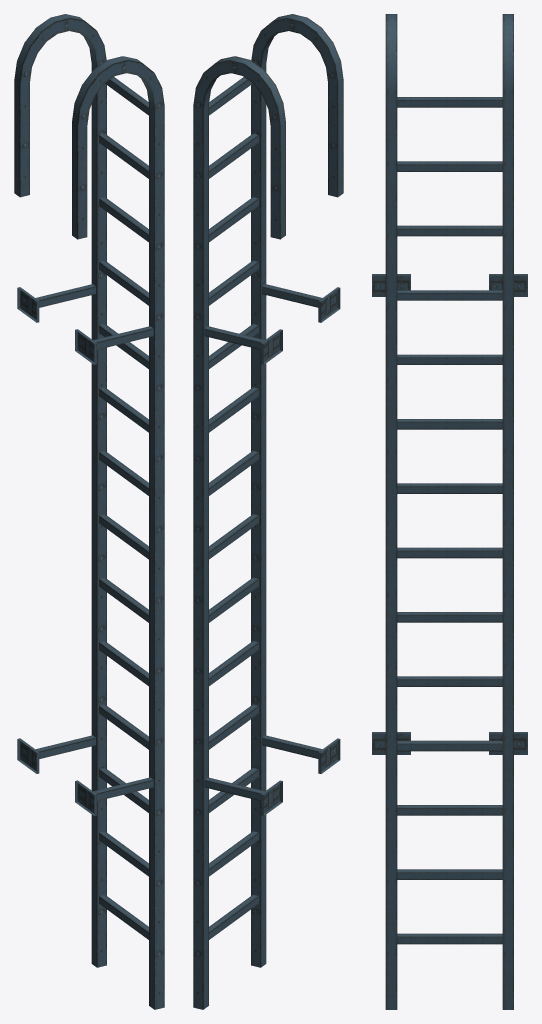
The model's file is Ladder.FBX.
3 renders of one model, left to right at view 1: azimuth 30°, elevation 25°; view 2: azimuth 150°, elevation 25°; view 3: azimuth 270°, elevation 25°, orthographic.
Visible parts, largest first — view 1: Ladder; view 2: Ladder; view 3: Ladder.
Part boxes in pixels (bbox=[...]): Ladder: bbox=[14, 14, 164, 1009]; Ladder: bbox=[193, 14, 343, 1009]; Ladder: bbox=[372, 14, 527, 1009].
Size of the model in its own units: 0.6603 by 6.93 by 1.01.
